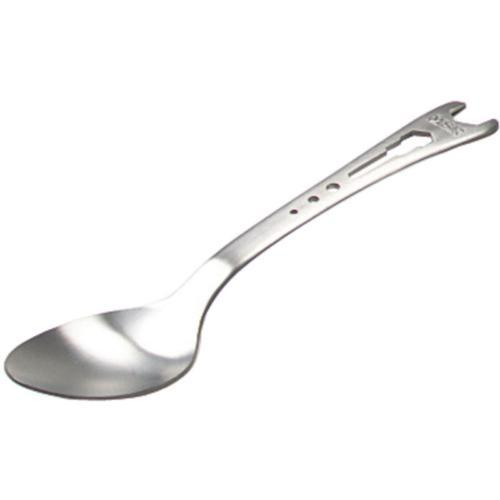Spoon: (4, 101, 498, 400)
